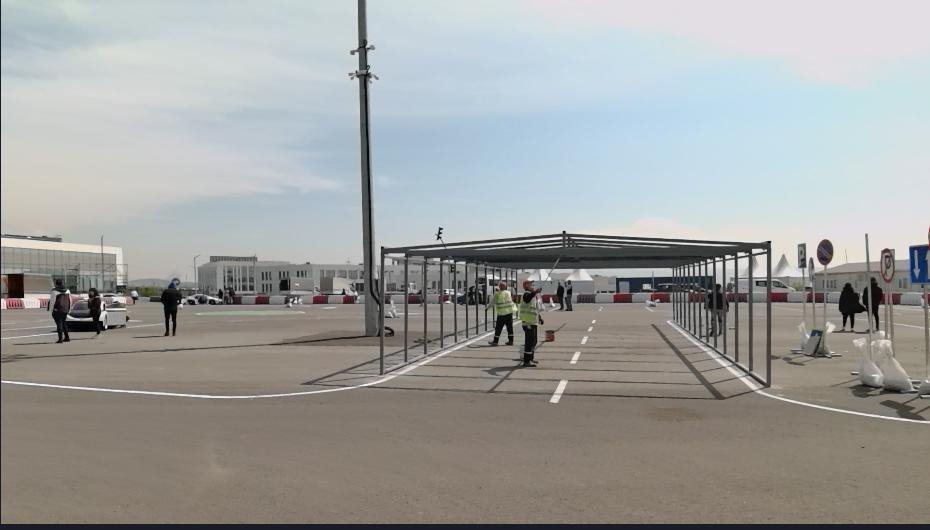nesne: (2, 302, 928, 528), (2, 302, 608, 528), (489, 302, 929, 528), (0, 328, 493, 399), (662, 318, 929, 423), (864, 331, 913, 388), (68, 287, 128, 332), (486, 282, 520, 345), (520, 280, 542, 368), (48, 276, 71, 345), (836, 275, 863, 331), (726, 290, 839, 303), (704, 279, 728, 338), (853, 333, 877, 390), (860, 276, 883, 325), (161, 278, 180, 334), (574, 292, 670, 303), (798, 319, 822, 352), (876, 248, 897, 282), (319, 276, 360, 293), (88, 288, 104, 331), (278, 276, 317, 292), (549, 376, 569, 404), (737, 278, 793, 288), (303, 295, 365, 304), (821, 318, 836, 352), (560, 276, 574, 310), (184, 292, 223, 303), (816, 239, 833, 264), (384, 298, 400, 320), (899, 293, 922, 305), (6, 295, 26, 308), (795, 242, 804, 268), (631, 291, 650, 303), (787, 291, 807, 302), (22, 295, 40, 307), (224, 285, 236, 303), (575, 293, 596, 303), (594, 293, 613, 304), (727, 292, 747, 302), (806, 292, 824, 303), (613, 292, 632, 302), (566, 351, 578, 366), (539, 294, 555, 305), (128, 285, 139, 301), (556, 282, 563, 307), (284, 294, 294, 310), (751, 290, 765, 301), (649, 293, 666, 302), (578, 334, 590, 346), (771, 292, 787, 301), (824, 291, 837, 302), (409, 293, 423, 303), (216, 284, 224, 300), (268, 295, 284, 303), (327, 294, 343, 302), (242, 295, 256, 304), (254, 296, 269, 304), (313, 295, 328, 303), (342, 295, 357, 303), (427, 294, 439, 303), (891, 292, 900, 304), (392, 295, 405, 303), (304, 295, 313, 303), (293, 295, 300, 305), (357, 295, 364, 304), (299, 294, 304, 303)
